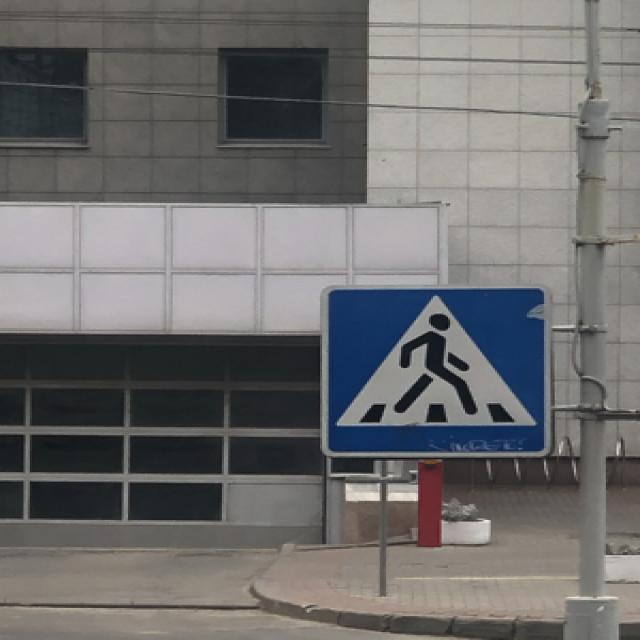crosswalk: (316, 283, 550, 458)
